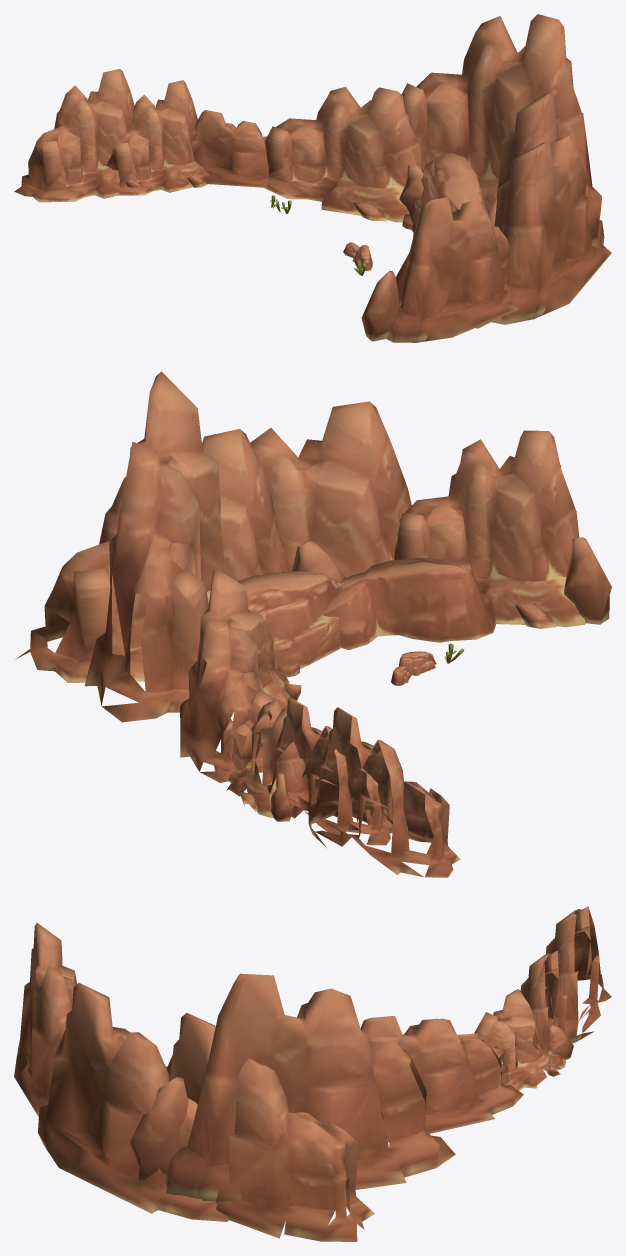
Rendered from Area_01_1.fbx.
3 views of the same model, one above another, from view 1: azimuth 30°, elevation 25°; view 2: azimuth 150°, elevation 25°; view 3: azimuth 270°, elevation 25° (orthographic). The views are drawn at different scales.
Visible parts, largest first — view 1: Area_01_1; view 2: Area_01_1; view 3: Area_01_1.
Boxes of the visible parts, left/top/right/bottom form: Area_01_1: left=14, top=14, right=611, bottom=342; Area_01_1: left=15, top=371, right=611, bottom=877; Area_01_1: left=14, top=906, right=611, bottom=1241.
Size of the model in its own units: 8993 by 3955 by 9210.
1 material, 1 textured.
